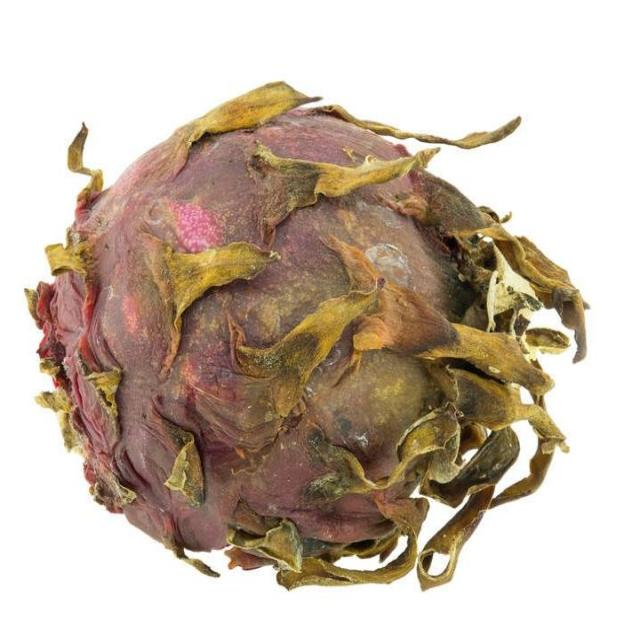Wet Waste: (21, 81, 592, 592)
